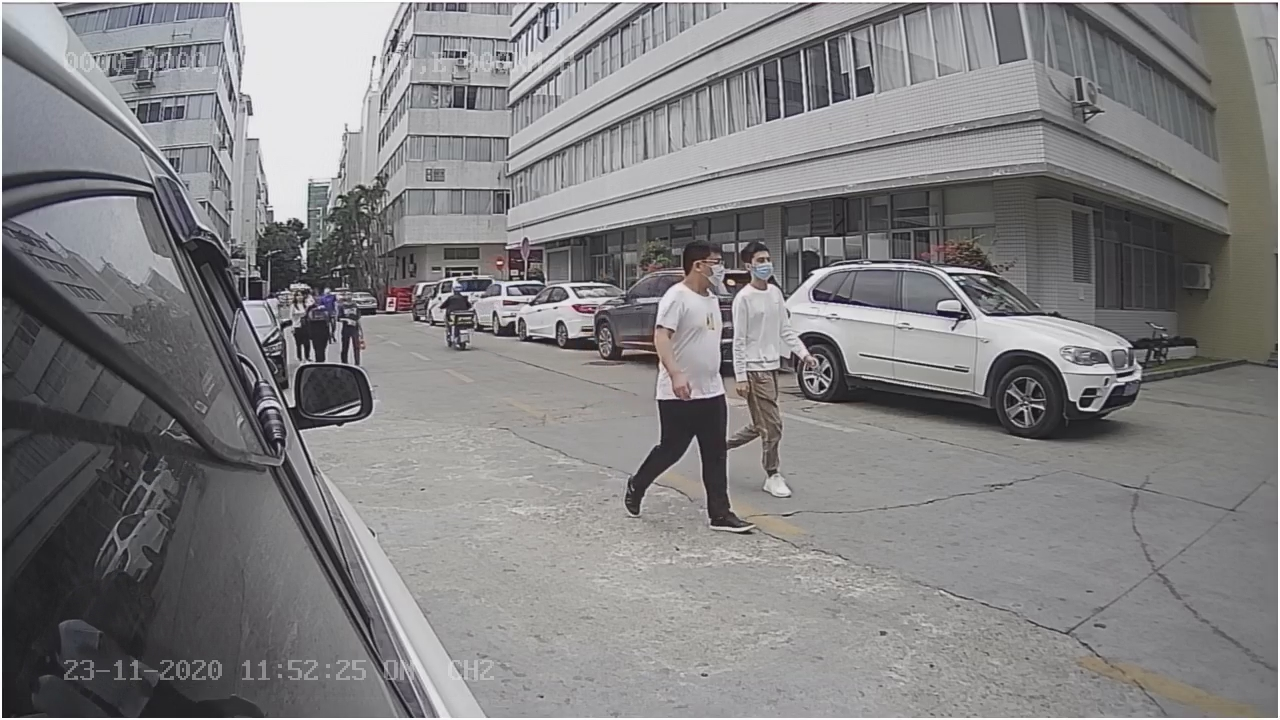person: (641, 242, 731, 520), (724, 238, 801, 477)
